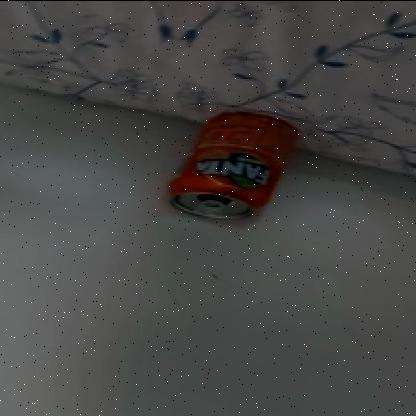Can: (166, 110, 298, 220)
